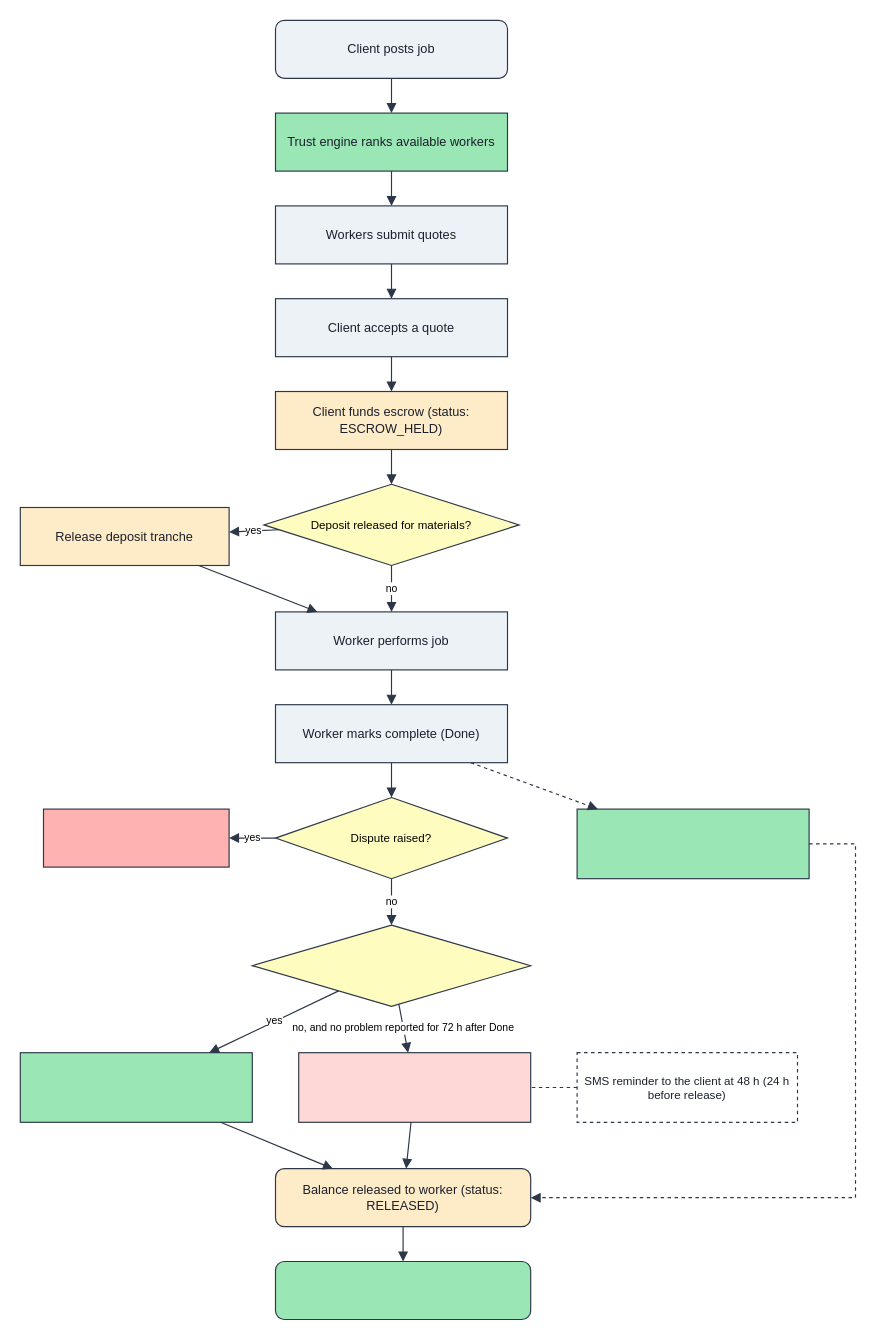
This 885x1340 diagram has some shape labels left out. Here are the shapes that lost their labels. From the top down, the box of each, then its label:
(42, 808, 229, 867): Funds locked, admin review
(576, 808, 809, 879): Worker rates client (independent, non-blocking)
(251, 924, 531, 1006): Client confirms within 72 h?
(19, 1052, 252, 1122): Client: mandatory rating tap
(298, 1052, 531, 1122): Released automatically (no client rating)
(274, 1260, 531, 1320): Trust edges written to graph (both directions)
